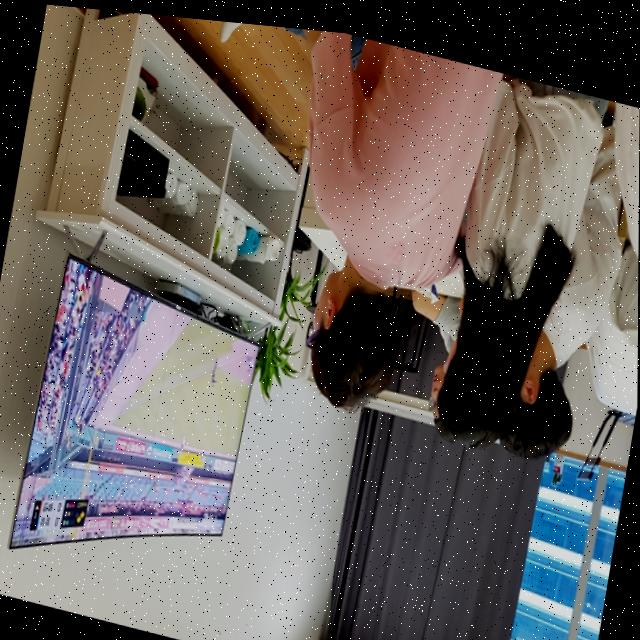tv-person: (0, 0, 474, 640)
